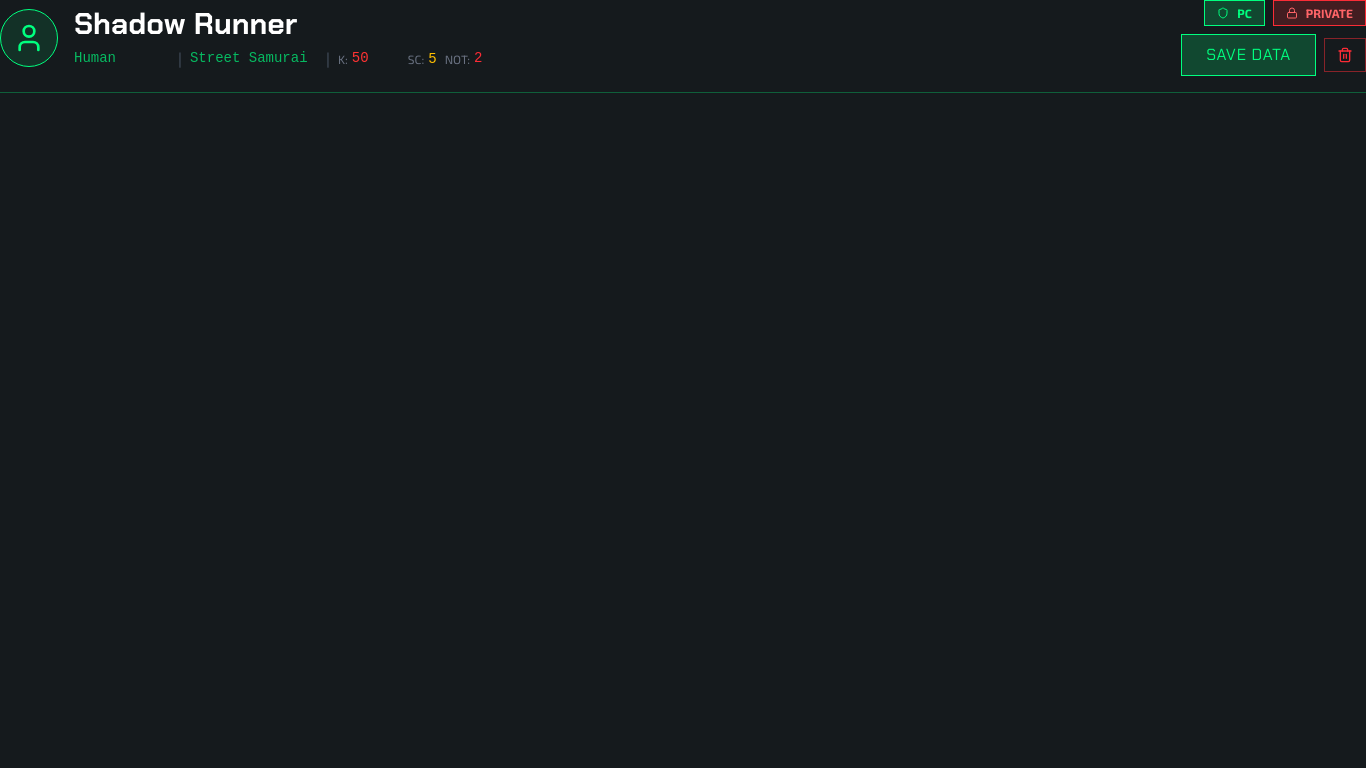
Test case: CharacterSheetHeader Component › opens delete confirmation modal when delete clicked
Click the button titled "Delete Character": (1345, 55) left=1324, top=38, right=1365, bottom=72
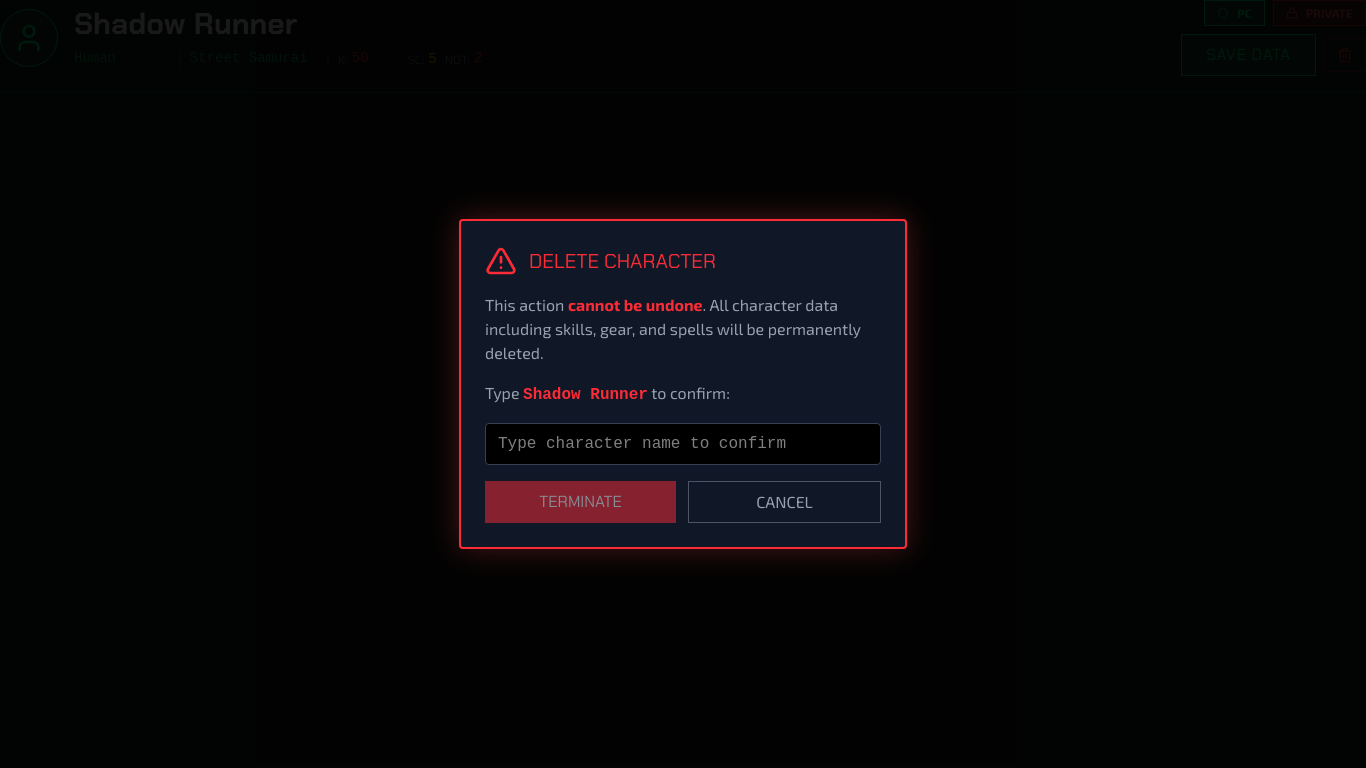
Check: the heading "DELETE CHARACTER" is shown, box left=529, top=247, right=716, bottom=275
